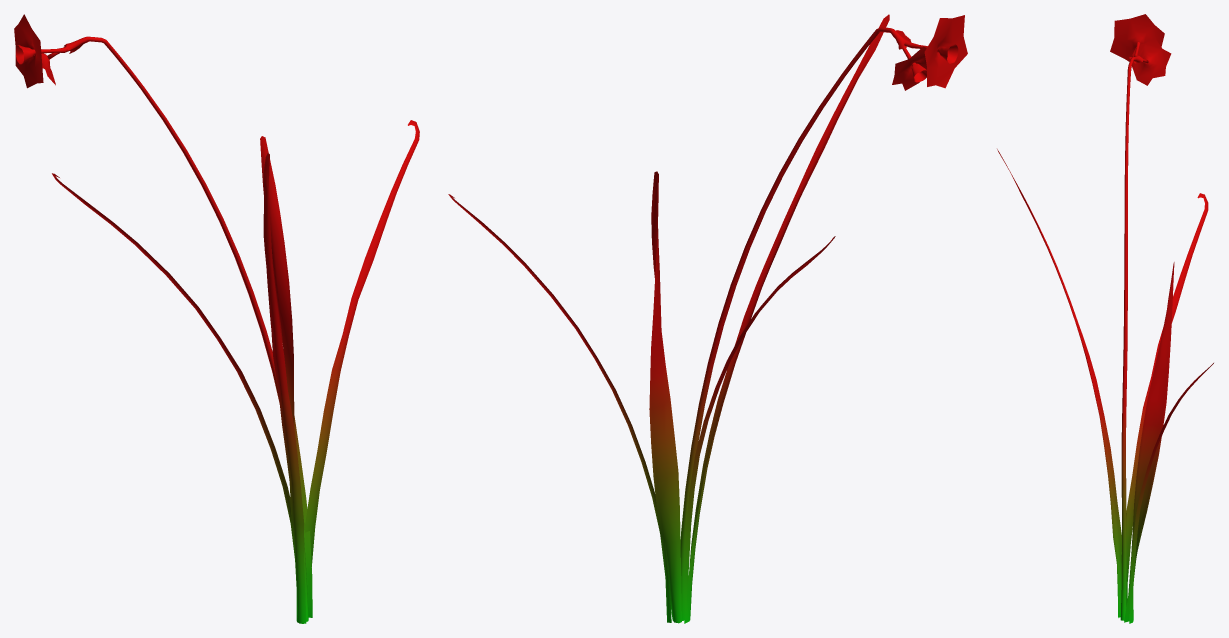
The model's file is Rush Daffodil_LOD0_Var8_wftgfjaia.fbx.
The picture shows the model from 3 angles, left to right: view 1: azimuth 30°, elevation 25°; view 2: azimuth 150°, elevation 25°; view 3: azimuth 270°, elevation 25°; orthographic projection. The views are drawn at different scales.
Parts seen in each view (by area): view 1: _pe47_var8_LOD0; view 2: _pe47_var8_LOD0; view 3: _pe47_var8_LOD0.
Boxes of the visible parts, box(x1,y1,x2,y2) form: _pe47_var8_LOD0: box(14, 14, 419, 623); _pe47_var8_LOD0: box(448, 14, 967, 623); _pe47_var8_LOD0: box(997, 14, 1213, 623).
Size of the model in its own units: 22.87 by 32.53 by 12.68.
